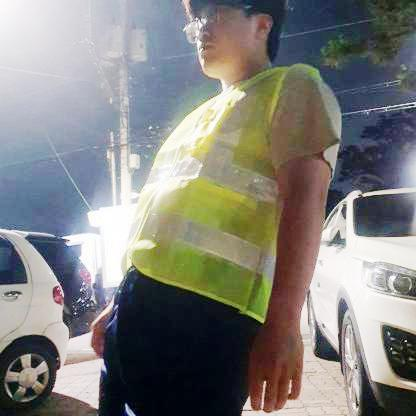vest: (122, 61, 335, 330)
